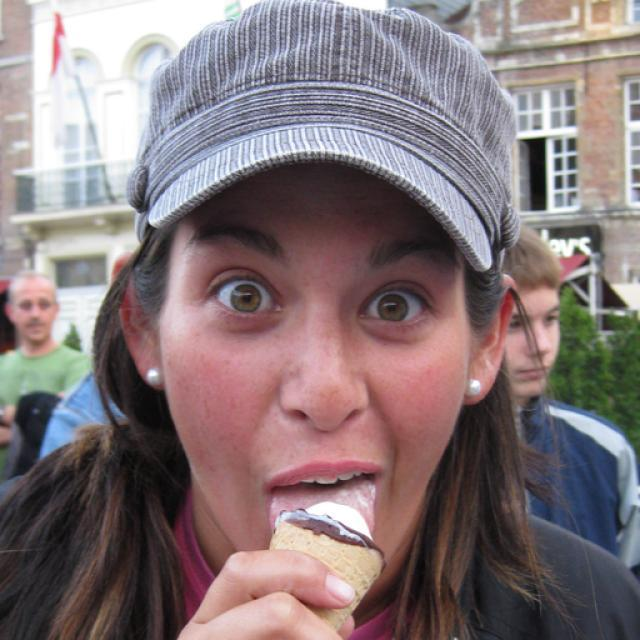happy: (162, 131, 470, 601)
